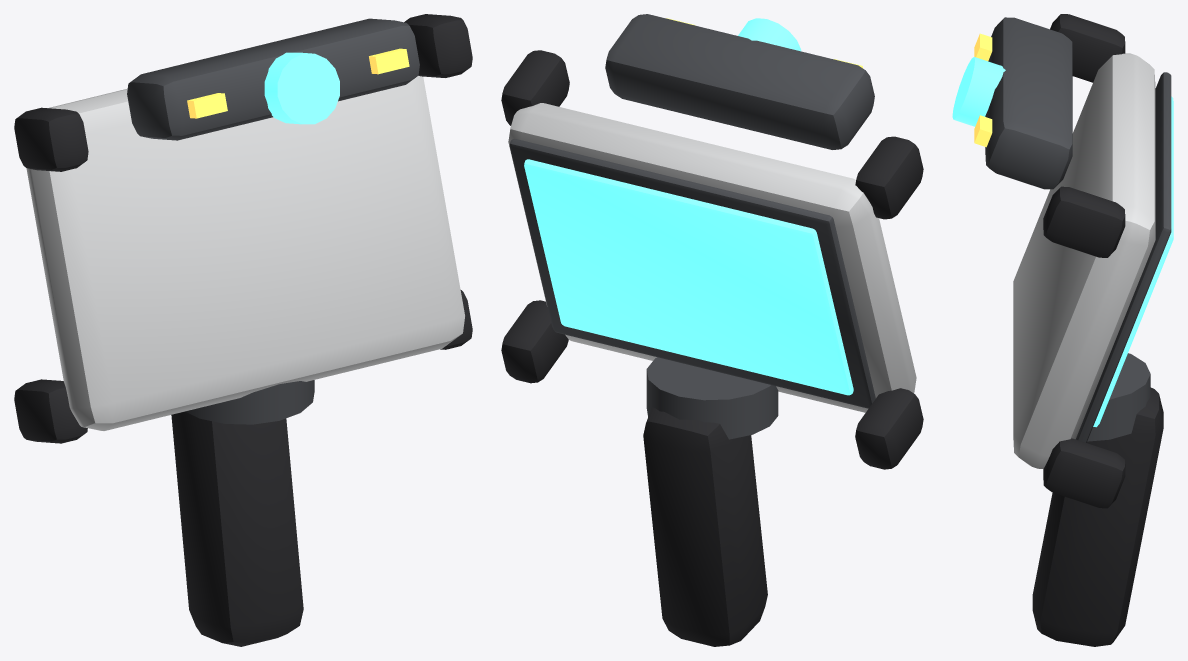
Rendered from scanner.glb.
The picture shows the model from 3 angles, left to right: view 1: azimuth 30°, elevation 25°; view 2: azimuth 150°, elevation 25°; view 3: azimuth 270°, elevation 25°; orthographic projection. The views are drawn at different scales.
Parts seen in each view (by area): view 1: scanner; view 2: scanner; view 3: scanner.
Part boxes in pixels (box(x1,y1,x2,y2)): scanner: box(14, 14, 472, 646); scanner: box(501, 14, 923, 646); scanner: box(952, 14, 1173, 646).
Bounding box in the file's own units: 0.164 × 0.2308 × 0.08.
